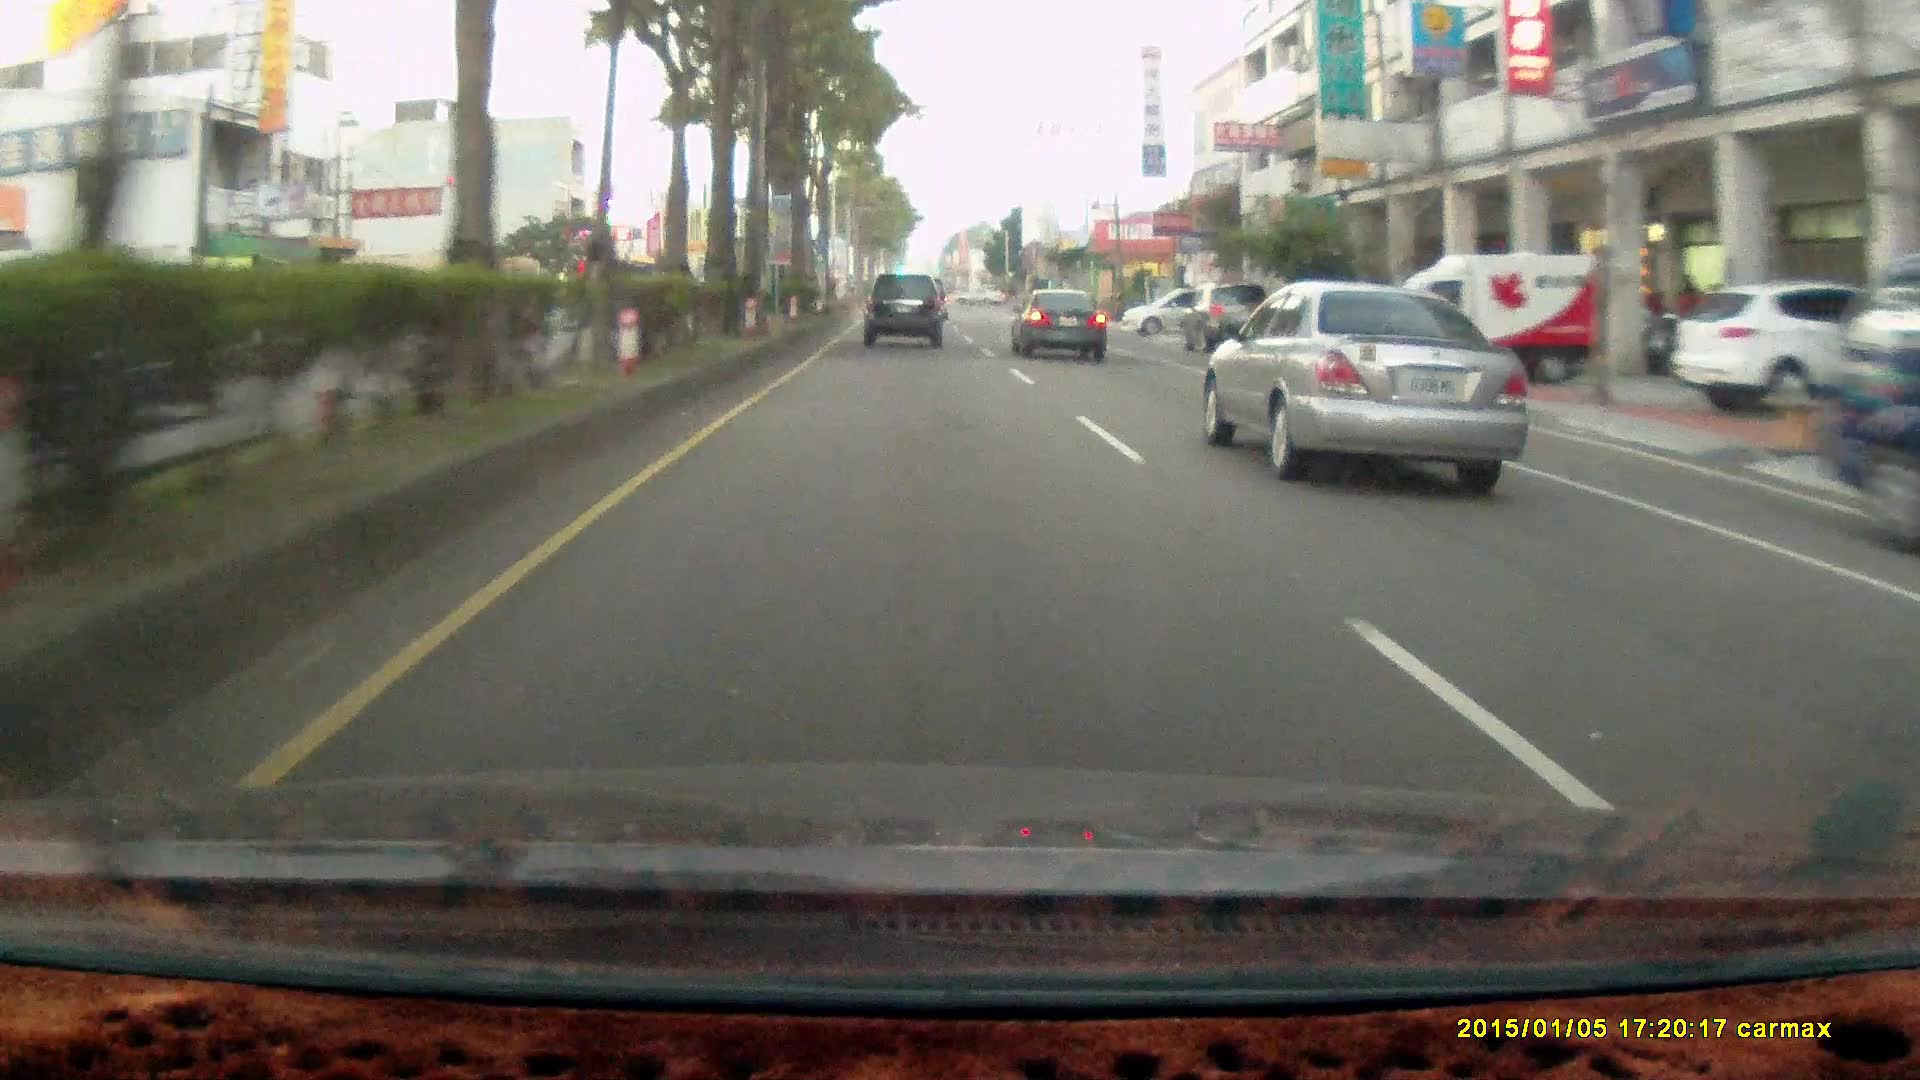vehicle: (1212, 290, 1539, 488), (1669, 280, 1917, 415), (1669, 280, 1920, 413), (1377, 251, 1605, 392), (1377, 251, 1604, 392), (1811, 262, 1920, 550), (1010, 287, 1112, 365), (864, 272, 951, 353), (1010, 291, 1106, 363), (1114, 284, 1233, 340), (1176, 284, 1270, 352), (1189, 287, 1278, 359), (861, 273, 942, 348)
